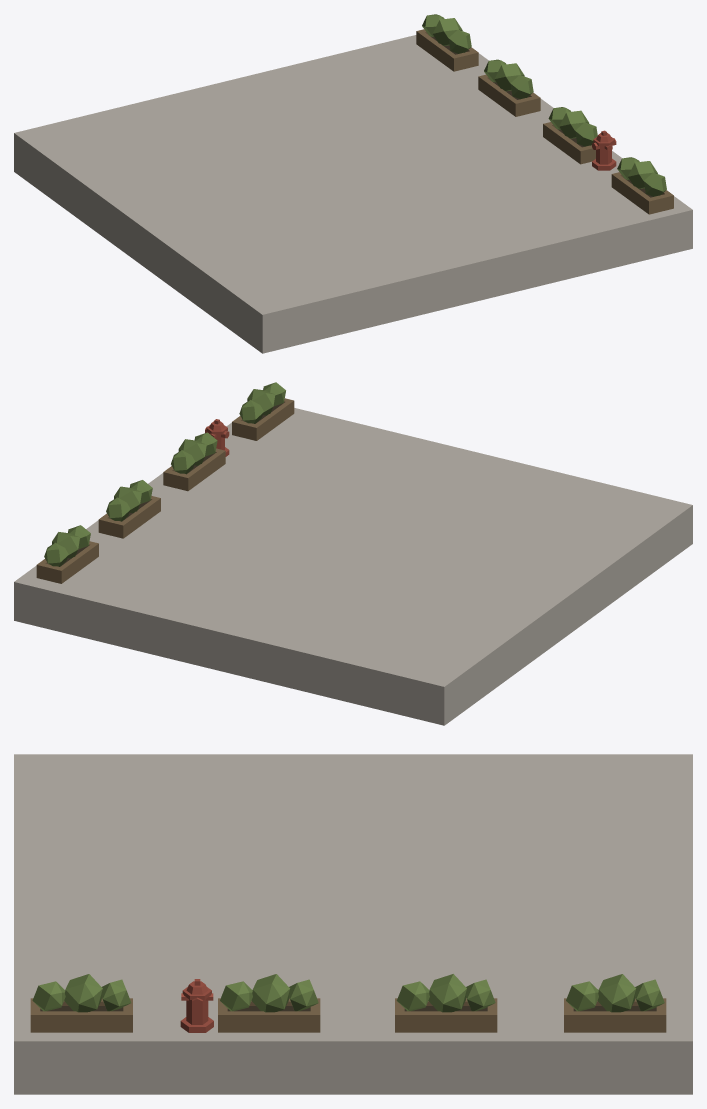
File: Scene-Decorate_E-Decorate_E.glb
3 renders of one model, top to bottom at view 1: azimuth 30°, elevation 25°; view 2: azimuth 150°, elevation 25°; view 3: azimuth 270°, elevation 25°, orthographic. The views are drawn at different scales.
Parts seen in each view (by area): view 1: Scene-Decorate_E-Decorate_E; view 2: Scene-Decorate_E-Decorate_E; view 3: Scene-Decorate_E-Decorate_E.
Boxes of the visible parts, box(x1,y1,x2,y2) form: Scene-Decorate_E-Decorate_E: box(14, 14, 692, 353); Scene-Decorate_E-Decorate_E: box(14, 382, 692, 725); Scene-Decorate_E-Decorate_E: box(14, 754, 692, 1094).
Size of the model in its own units: 10 by 1.63 by 10.
1 material, 1 textured.
